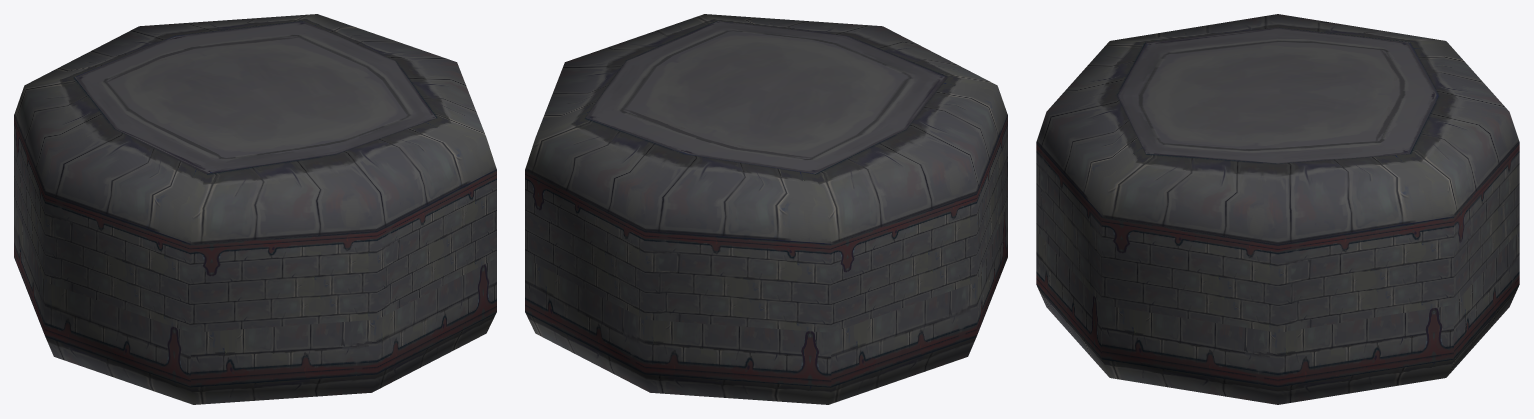
Rendered from Pillar_Round_05.glb.
3 renders of one model, left to right at view 1: azimuth 30°, elevation 25°; view 2: azimuth 150°, elevation 25°; view 3: azimuth 270°, elevation 25°, orthographic.
Visible parts, largest first — view 1: Plane.015; view 2: Plane.015; view 3: Plane.015.
Part boxes in pixels (left/top/right/bottom): Plane.015: left=14, top=14, right=496, bottom=404; Plane.015: left=525, top=14, right=1007, bottom=404; Plane.015: left=1036, top=14, right=1519, bottom=404.
Size of the model in its own units: 3.71 by 2.03 by 3.71.
1 material, 1 textured.
